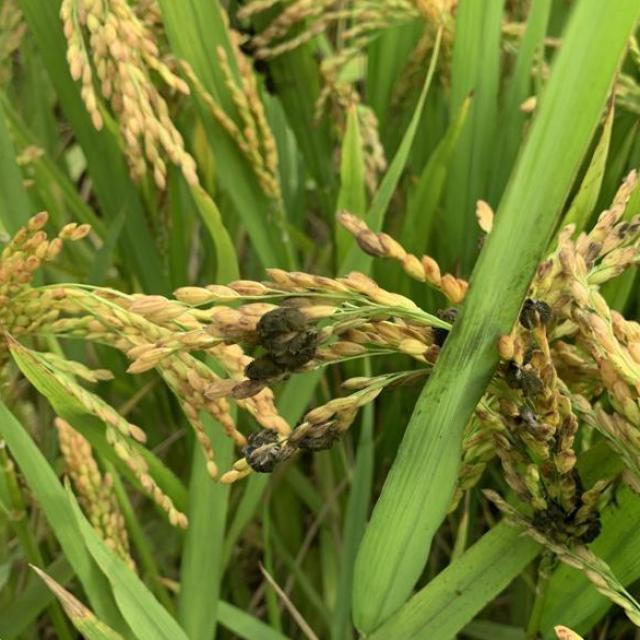Leaf_Scald: (526, 464, 604, 544), (243, 304, 325, 379), (239, 424, 290, 476), (515, 296, 555, 334), (429, 304, 461, 344)
